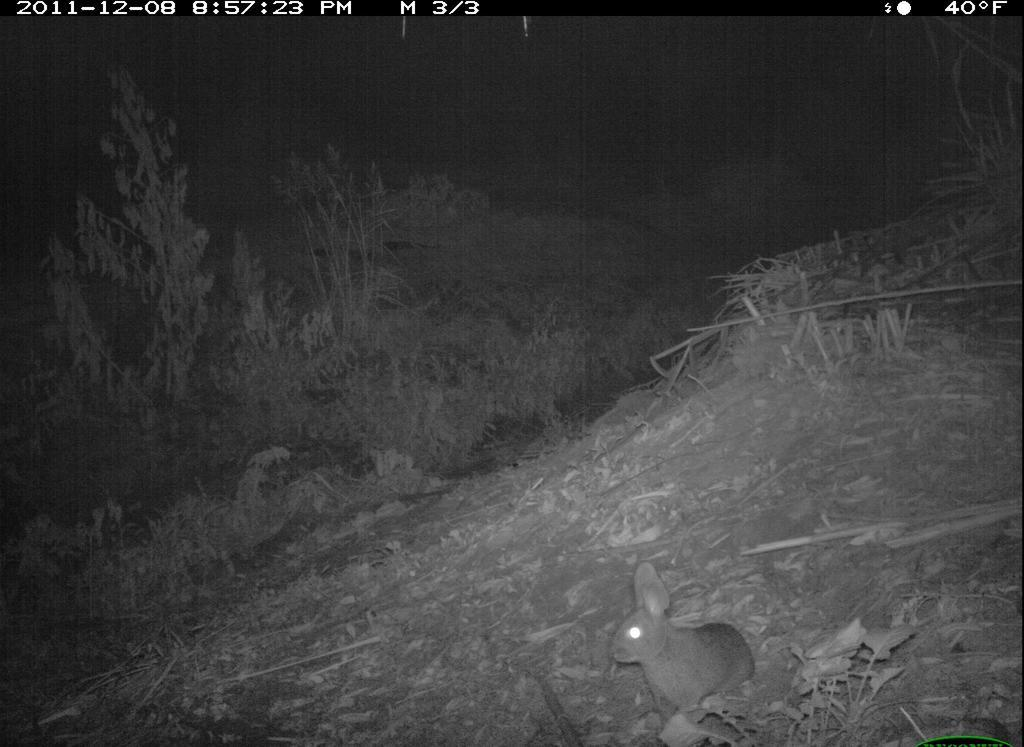rabbit: (570, 568, 780, 738)
